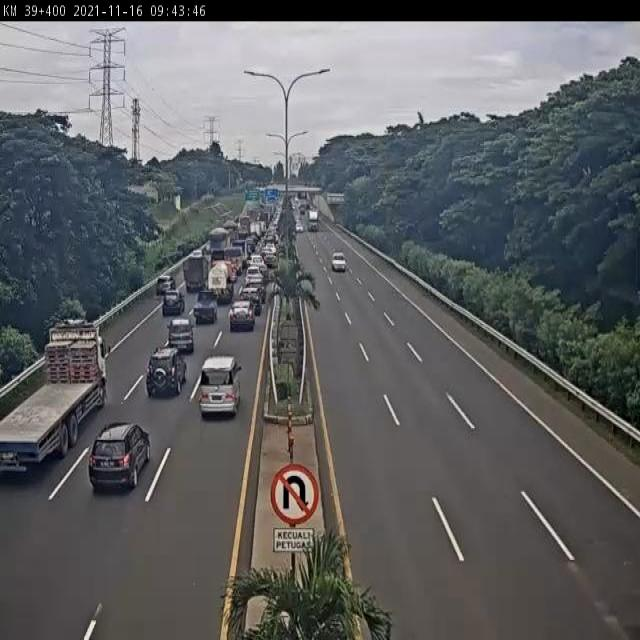Car: (88, 422, 153, 492), (197, 354, 243, 417), (146, 345, 187, 397), (167, 316, 195, 352), (228, 301, 256, 332), (192, 291, 218, 324), (238, 284, 264, 314), (161, 287, 185, 315), (156, 274, 176, 296), (331, 252, 347, 271), (296, 224, 303, 233)
Truck: (0, 319, 111, 473), (207, 259, 236, 302), (183, 252, 209, 294), (308, 211, 319, 230)
